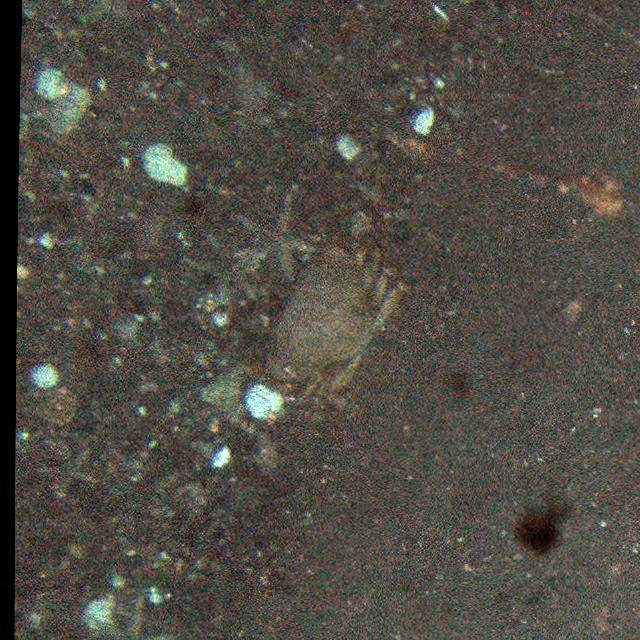crab: (260, 225, 410, 407)
